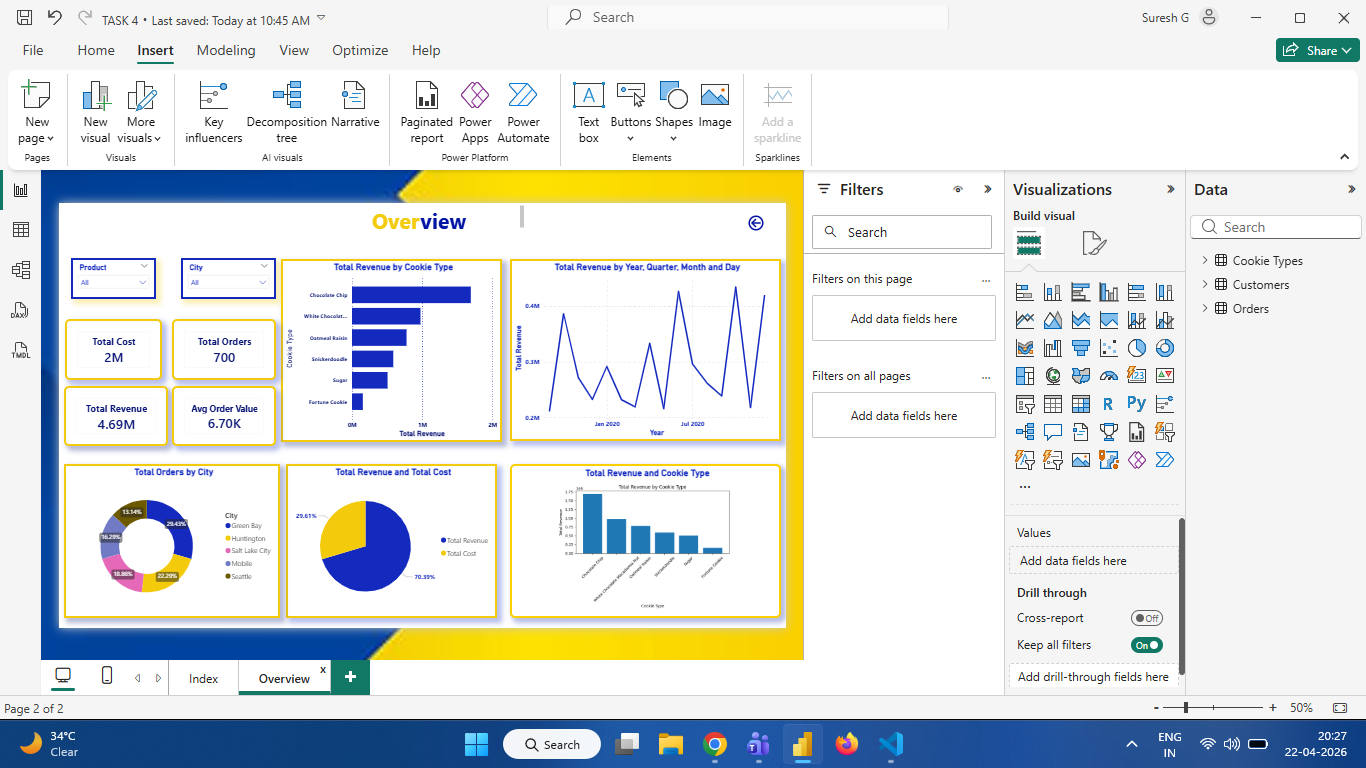

Layout of this report page (visuals, bound fields, positions):
{"tool":"powerbi","page":{"name":"Overview","canvas":[1454,850],"ordinal":1},"visuals":[{"type":"barChart","fields":{"Y":["Orders.Total Revenue"],"Category":["Cookie Types.Cookie Type"]},"box":[444,112,442,366],"z":0},{"type":"lineChart","fields":{"Y":["Orders.Total Revenue"],"Category":["Orders.Date.Variation.Date Hierarchy.Year","Orders.Date.Variation.Date Hierarchy.Quarter","Orders.Date.Variation.Date Hierarchy.Month","Orders.Date.Variation.Date Hierarchy.Day"]},"box":[902,112,542,364],"z":1000},{"type":"pieChart","fields":{"Y":["Orders.Total Revenue","Orders.Total Cost"]},"box":[454,522,422,308],"z":2000},{"type":"donutChart","fields":{"Y":["Orders.Total Orders"],"Category":["Customers.City"]},"box":[10,522,432,308],"z":3000},{"type":"cardVisual","fields":{"Data":["Orders.Total Cost"]},"box":[12,232,194,122],"z":4000},{"type":"cardVisual","fields":{"Data":["Orders.Total Revenue"]},"box":[10,366,208,120],"z":5000},{"type":"cardVisual","fields":{"Data":["Orders.Total Orders"]},"box":[226,232,208,122],"z":6000},{"type":"cardVisual","fields":{"Data":["Orders.Avg Order Value"]},"box":[226,366,208,120],"z":7000},{"type":"textbox","title":"Overview","box":[258.3,0,676.7,60],"z":8000},{"type":"actionButton","box":[1344,20,100,40],"z":9000},{"type":"slicer","fields":{"Values":["Orders.Product"]},"box":[24,110,170,82],"z":10000},{"type":"slicer","fields":{"Values":["Customers.City"]},"box":[244,110,190,82],"z":11000},{"type":"pythonVisual","fields":{"Values":["Orders.Total Revenue","Cookie Types.Cookie Type"]},"box":[902,522,542,308],"z":12000}]}

Visuals, with their boxes on the page's 1454x850 design canvas (x1, y1, x2, y2). These are canvas units, not pixel positions in the 1366x768 screenshot, which may show the page scaled, cropped or inside an application window:
barChart - Orders.Total Revenue x Cookie Types.Cookie Type: l=444, t=112, r=886, b=478
lineChart - Orders.Total Revenue x Orders.Date.Variation.Date Hierarchy.Year: l=902, t=112, r=1444, b=476
pieChart - Orders.Total Revenue x Orders.Total Cost: l=454, t=522, r=876, b=830
donutChart - Orders.Total Orders x Customers.City: l=10, t=522, r=442, b=830
cardVisual - Orders.Total Cost: l=12, t=232, r=206, b=354
cardVisual - Orders.Total Revenue: l=10, t=366, r=218, b=486
cardVisual - Orders.Total Orders: l=226, t=232, r=434, b=354
cardVisual - Orders.Avg Order Value: l=226, t=366, r=434, b=486
"Overview" textbox: l=258, t=0, r=935, b=60
actionButton: l=1344, t=20, r=1444, b=60
slicer - Orders.Product: l=24, t=110, r=194, b=192
slicer - Customers.City: l=244, t=110, r=434, b=192
pythonVisual - Orders.Total Revenue x Cookie Types.Cookie Type: l=902, t=522, r=1444, b=830
